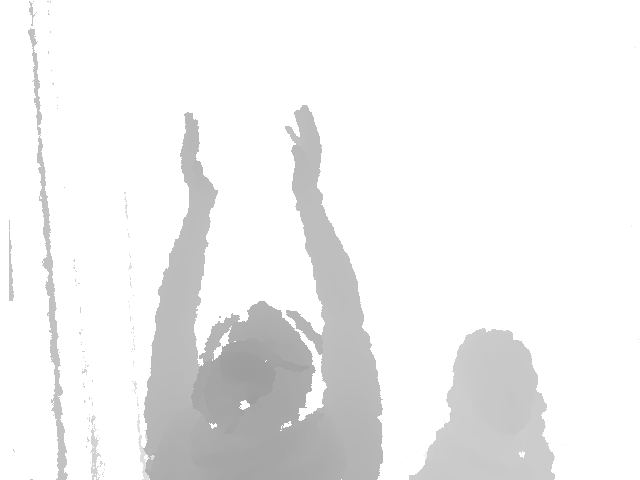hand: (283, 103, 325, 197), (179, 111, 219, 209)
head: (191, 299, 324, 435), (446, 330, 548, 437)
person: (147, 103, 384, 480), (414, 328, 556, 480)
